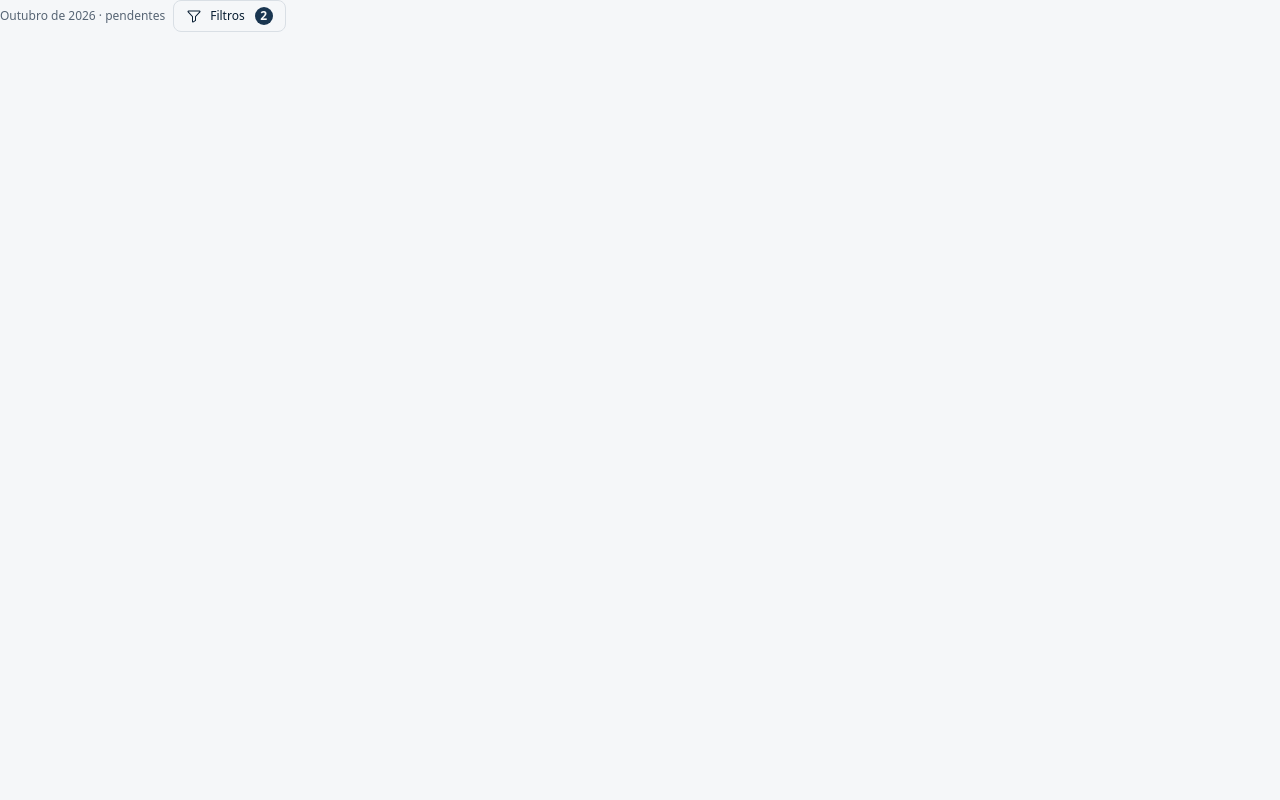
Test case: FiltrosMenu › resume o estado em texto, conta os ativos e limpa
This screenshot has width=1280, height=800.
Later steps or results of the test are not shown.
Check: the text "Outubro de 2026 · pendentes" is shown, box [0,8,165,24]
Click the button with aria-label "Filtros (2 ativos)": (229, 16) [173,0,286,32]
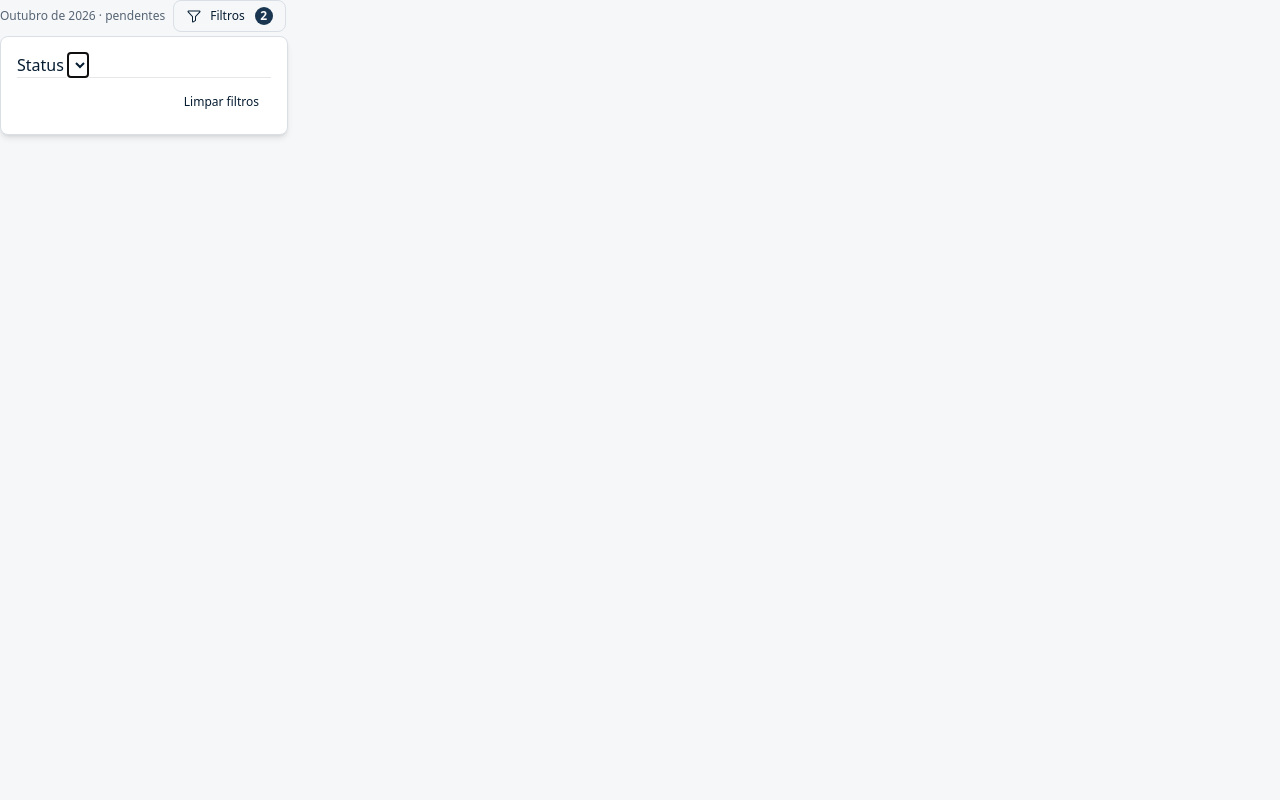
Check: the dropdown labelled "Status" is shown, box [68,53,88,77]
